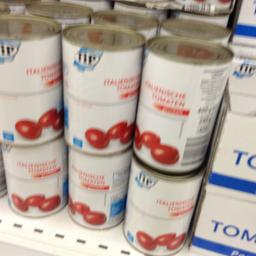tomato_sauce: (132, 34, 234, 172), (60, 20, 146, 156), (120, 156, 206, 254), (0, 15, 62, 144), (65, 146, 129, 228), (0, 140, 67, 218)
